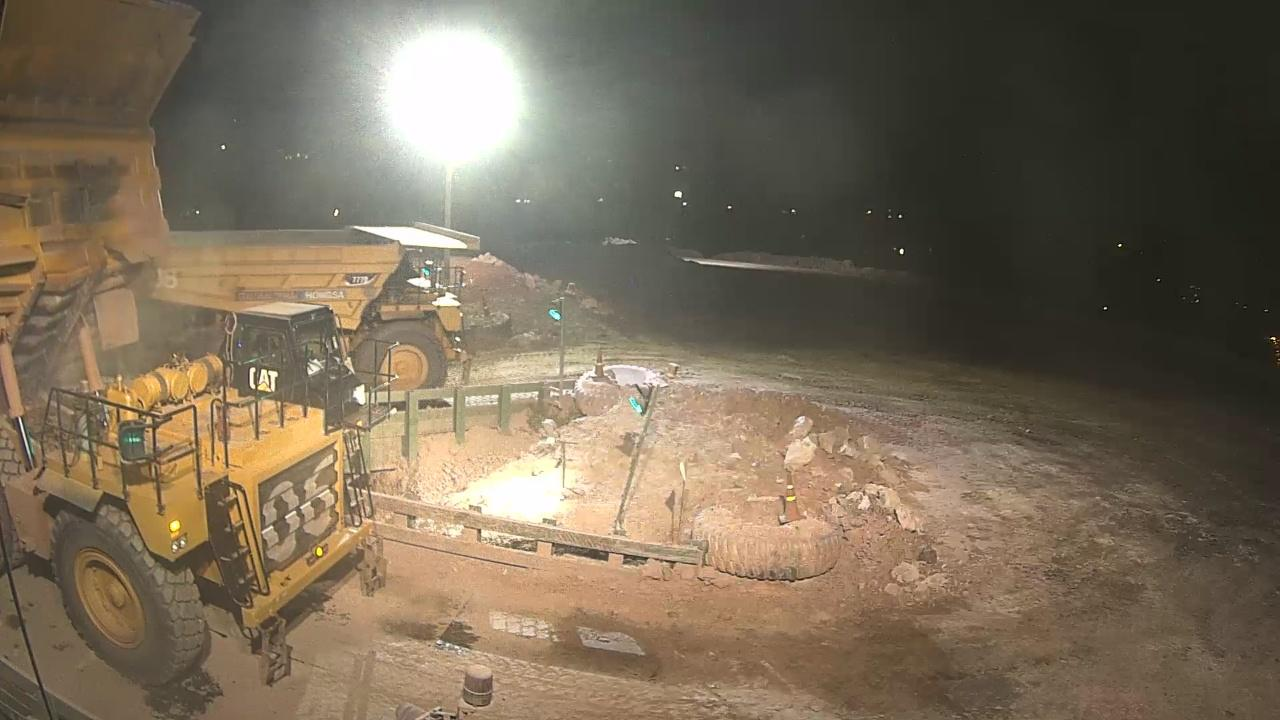dumping_soil: (1, 1, 378, 720)
front_number: (258, 452, 351, 568)
mining_truck: (141, 192, 498, 412)
tail_number: (156, 263, 183, 291)
